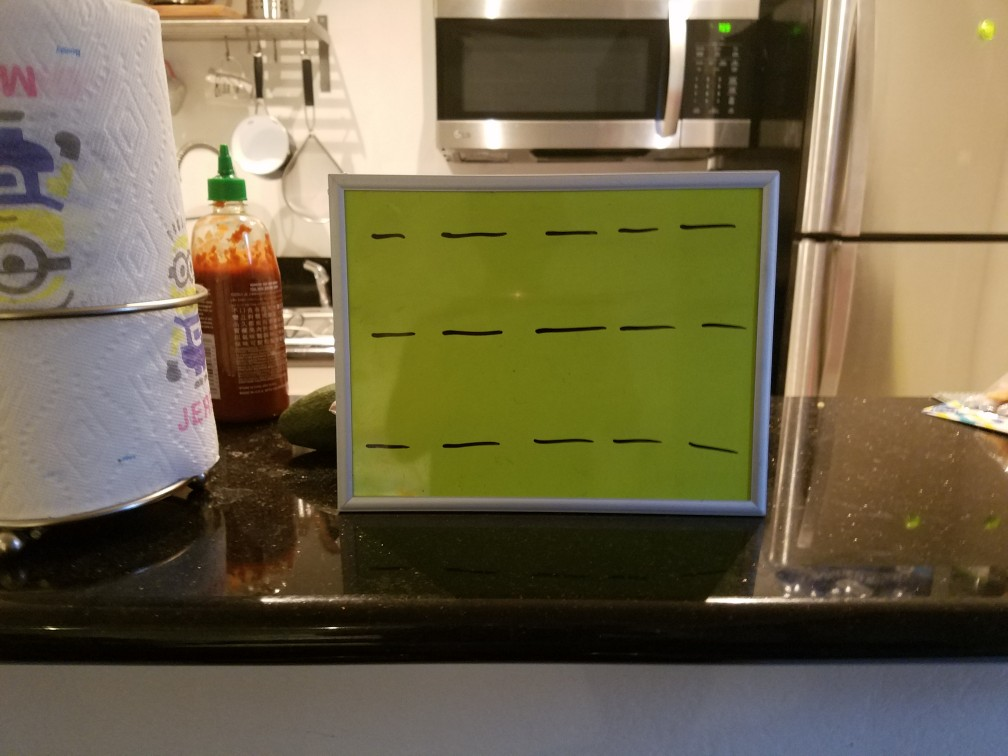-: (680, 427, 748, 471), (528, 420, 598, 460), (530, 313, 609, 346), (428, 317, 511, 348), (354, 427, 420, 465), (434, 427, 505, 462), (606, 423, 669, 462), (435, 223, 507, 251), (538, 216, 600, 248), (613, 213, 665, 251), (676, 210, 741, 239), (616, 315, 681, 344), (692, 312, 750, 339), (363, 322, 417, 346), (366, 221, 407, 250)
